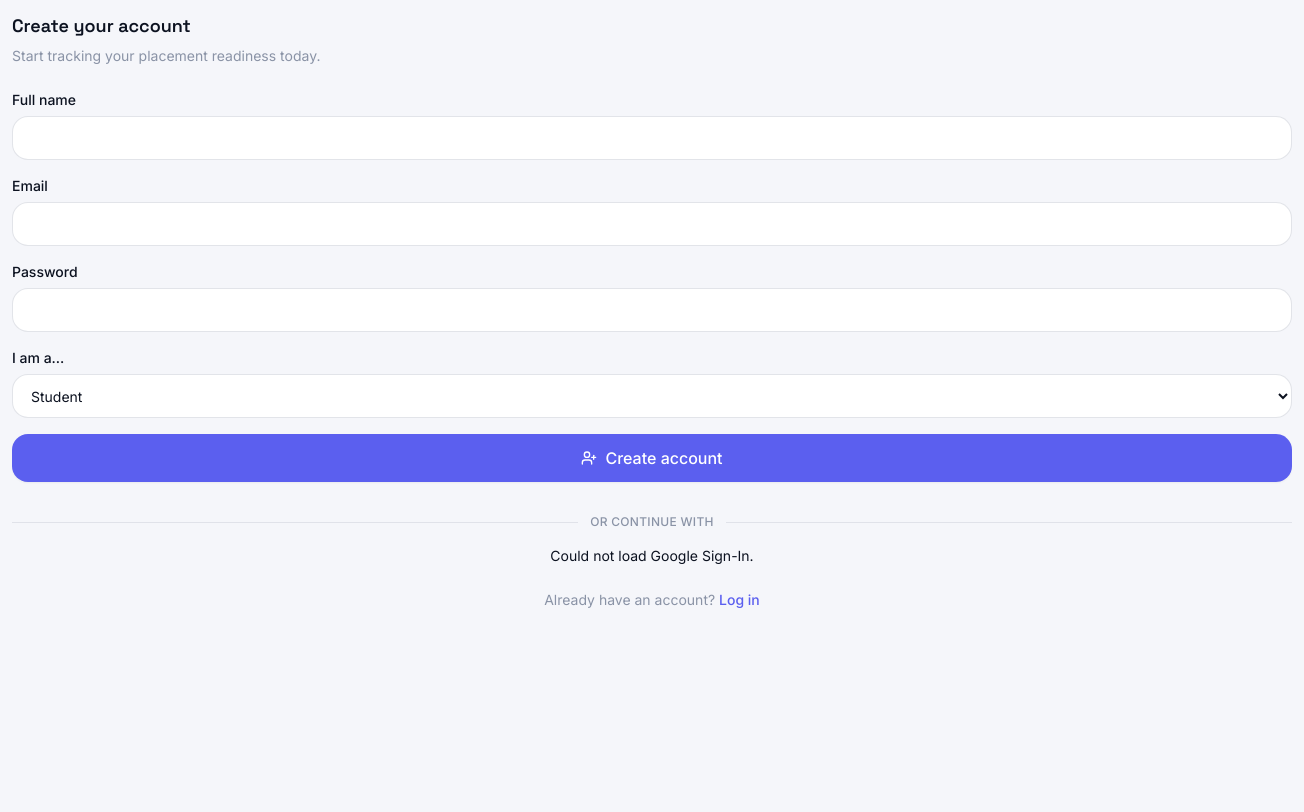
Test: RegisterPage › shows validation errors when submitted empty
Click the button "Create account": (652, 458) [12,434,1292,482]
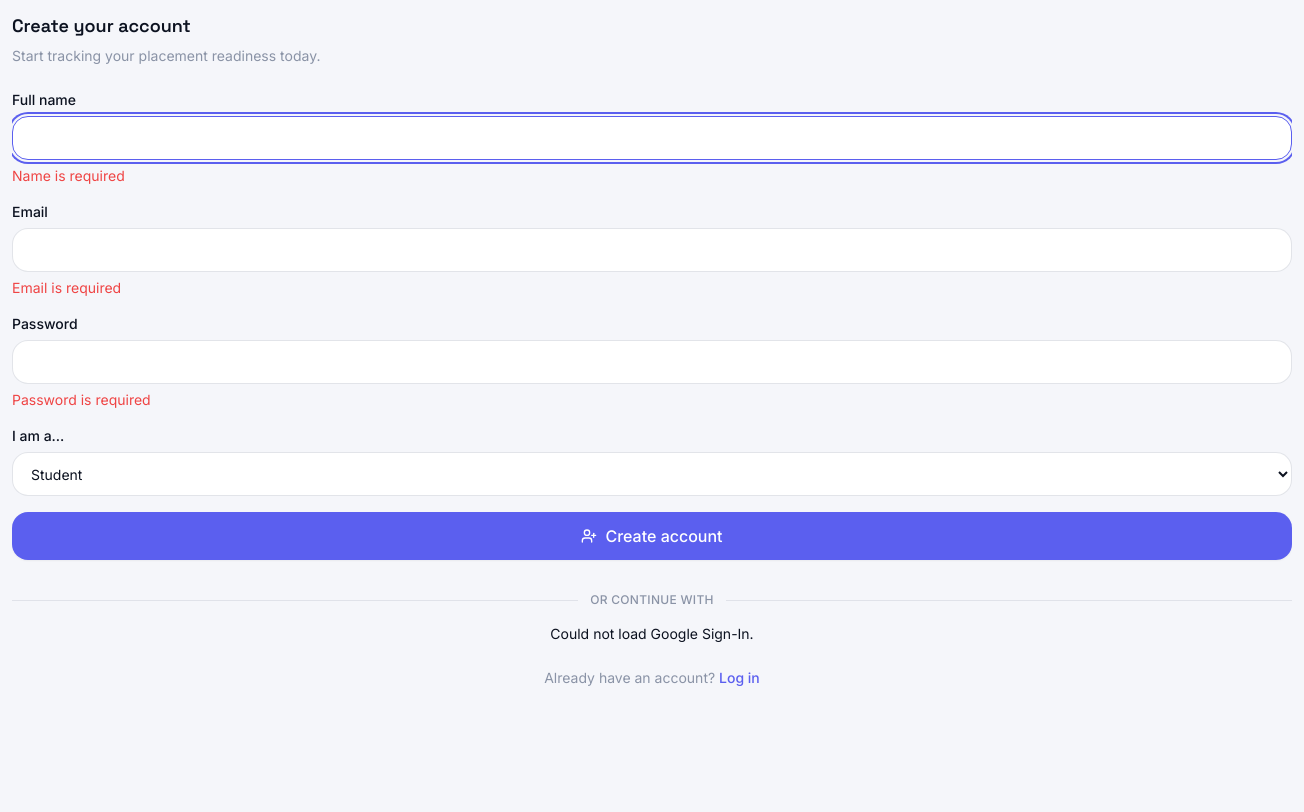
expect the text "Name is required" is shown: met, box [12,167,125,184]
expect the text "Email is required" is shown: met, box [12,279,121,296]
expect the text "Password is required" is shown: met, box [12,391,151,408]
